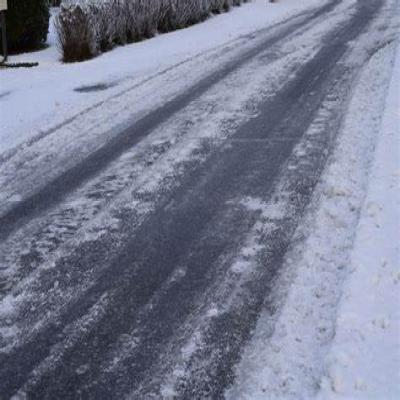iced-road: (0, 1, 390, 400)
